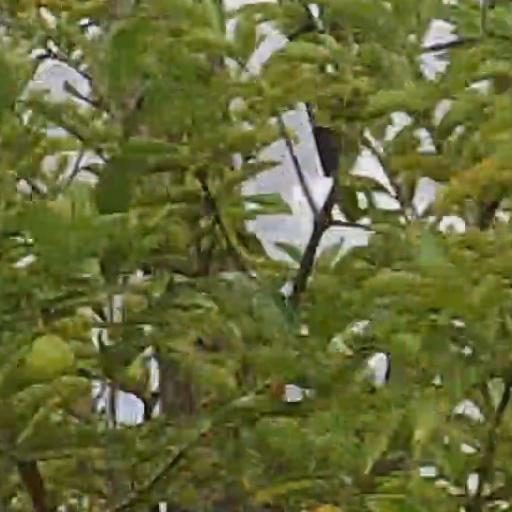acerola: (31, 338, 73, 378)
